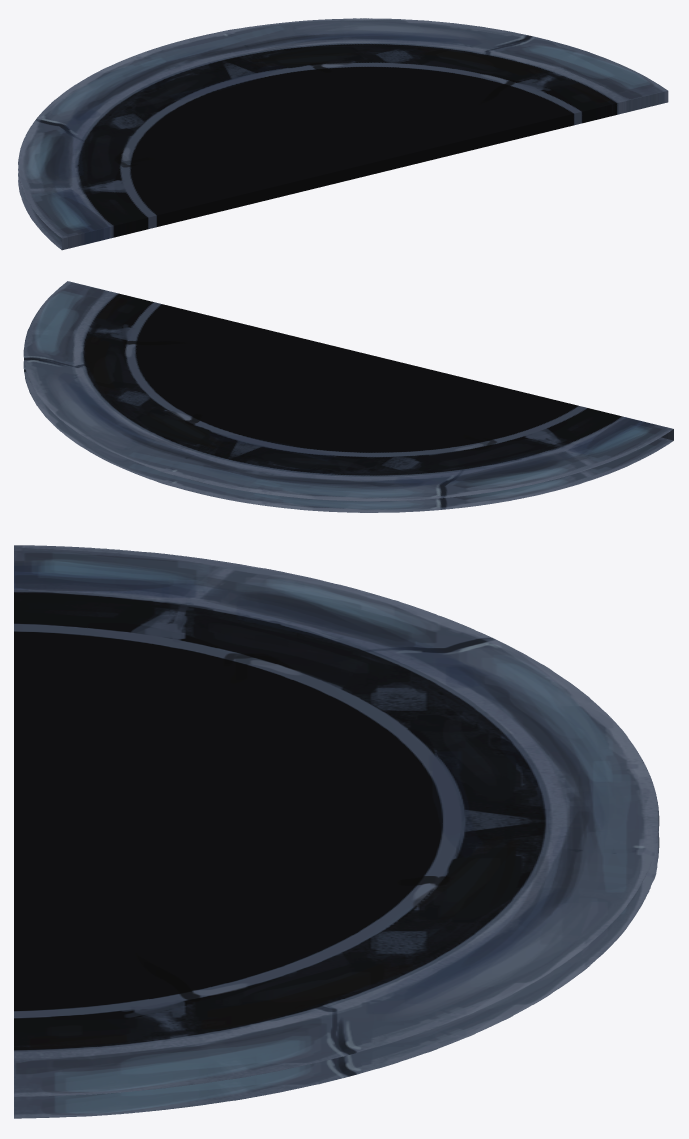
File: Life_P1.fbx
3 renders of one model, top to bottom at view 1: azimuth 30°, elevation 25°; view 2: azimuth 150°, elevation 25°; view 3: azimuth 270°, elevation 25°, orthographic. The views are drawn at different scales.
Visible parts, largest first — view 1: P1_life_big; view 2: P1_life_big; view 3: P1_life_big.
Boxes of the visible parts, box(x1,y1,x2,y2) form: P1_life_big: box(18, 18, 668, 250); P1_life_big: box(23, 281, 673, 512); P1_life_big: box(14, 545, 659, 1118).
Size of the model in its own units: 3.49 by 0.0632 by 1.75.
